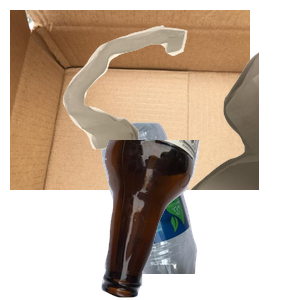cardboard: (10, 10, 250, 190)
glass: (99, 140, 300, 300)
plastic: (99, 120, 289, 300)
trash: (60, 23, 300, 203)
